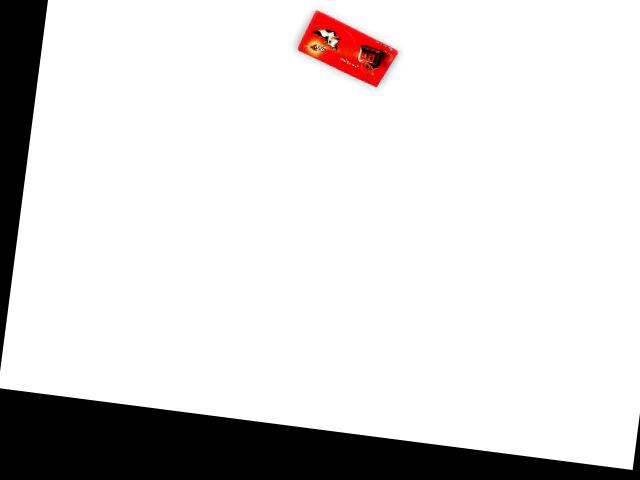chocolate: (296, 9, 403, 90)
